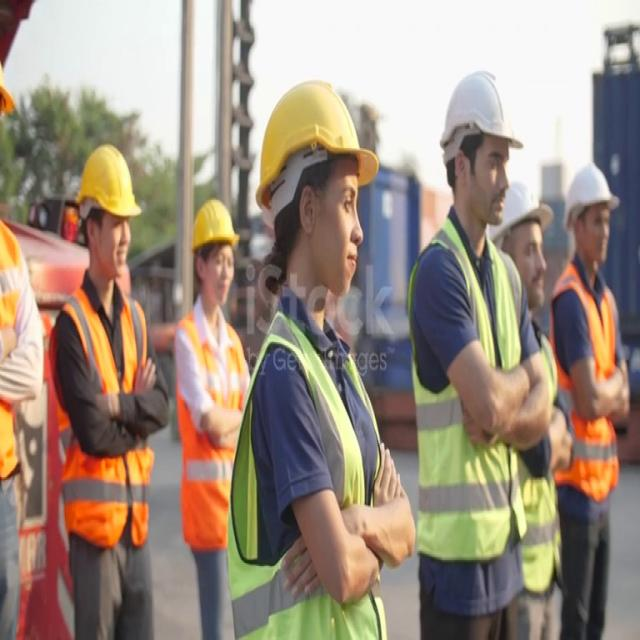capacete: (249, 79, 391, 241), (411, 58, 533, 172), (72, 132, 150, 248), (481, 175, 560, 258), (560, 151, 624, 245), (176, 170, 245, 256), (0, 57, 24, 137)
